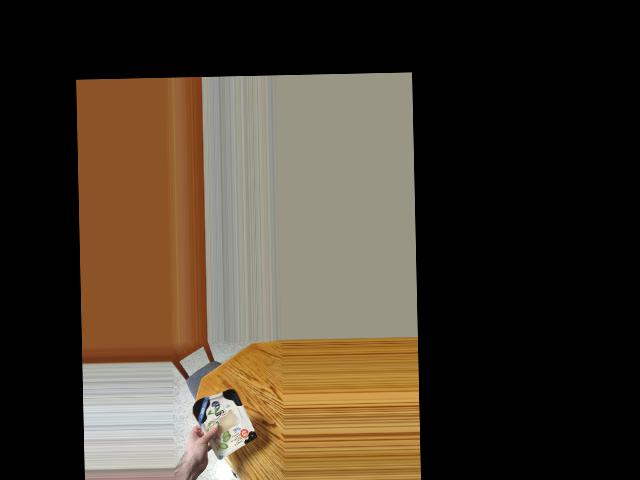cheese: (188, 388, 253, 453)
